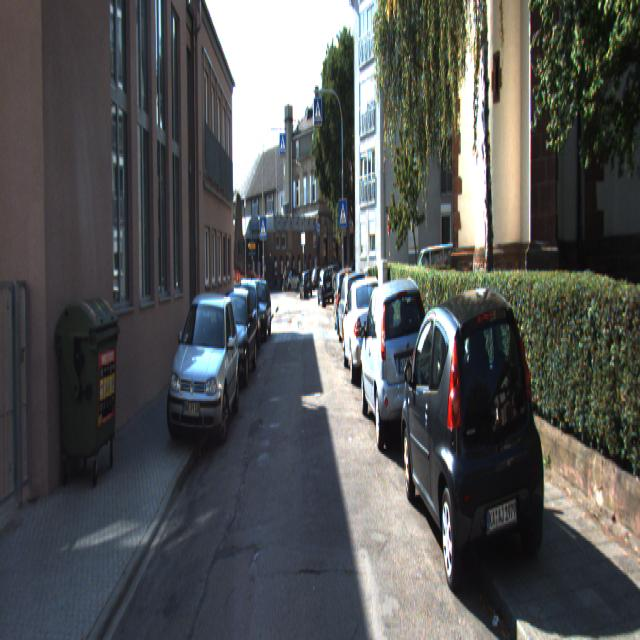Car: (399, 273, 548, 582), (358, 272, 436, 448), (166, 283, 241, 450), (340, 272, 390, 381), (209, 284, 259, 388), (413, 239, 457, 311), (336, 268, 372, 350), (231, 275, 261, 353), (245, 278, 272, 342)
DontCare: (280, 251, 335, 313)
